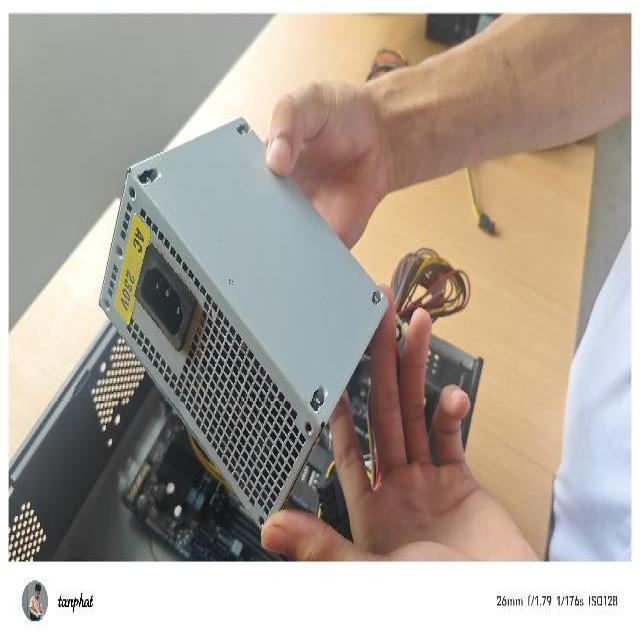PSU: (97, 111, 390, 532)
